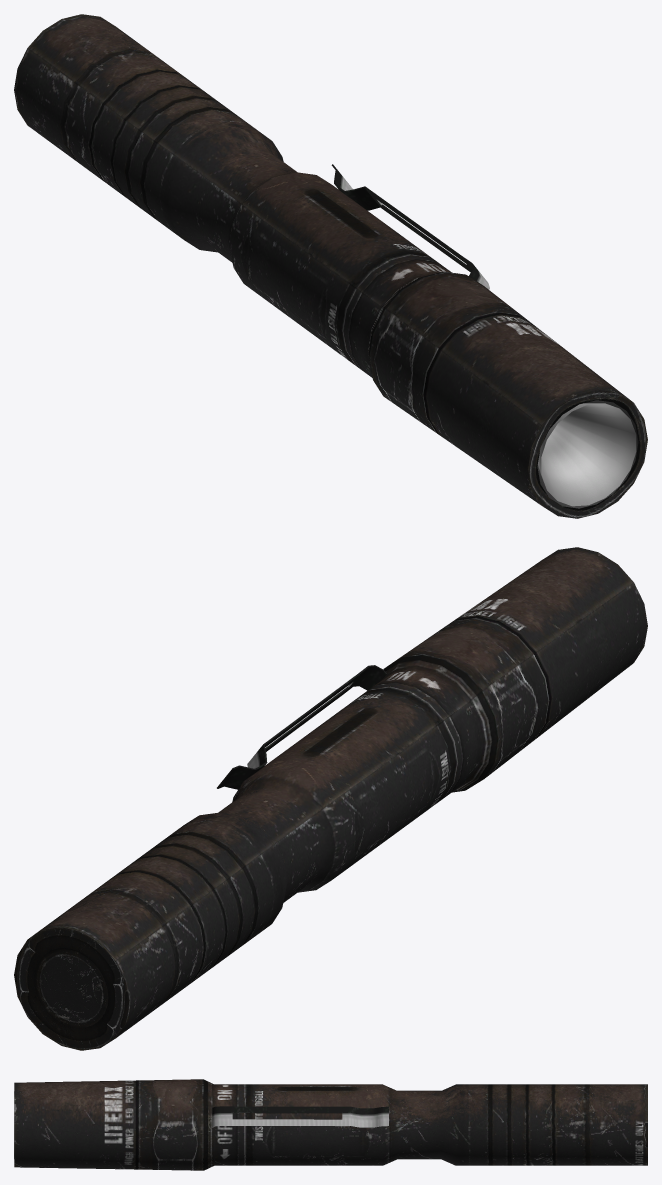
File: flashlight02Prefab.fbx
3 views of the same model, one above another, from view 1: azimuth 30°, elevation 25°; view 2: azimuth 150°, elevation 25°; view 3: azimuth 270°, elevation 25° (orthographic). The views are drawn at different scales.
Parts seen in each view (by area): view 1: flashlight02Prefab, glow; view 2: flashlight02Prefab; view 3: flashlight02Prefab.
Part boxes in pixels (left/top/right/bottom): flashlight02Prefab: left=14, top=14, right=647, bottom=518; glow: left=538, top=403, right=636, bottom=506; flashlight02Prefab: left=14, top=547, right=647, bottom=1050; flashlight02Prefab: left=14, top=1079, right=647, bottom=1170.
Size of the model in its own units: 0.035 by 0.0336 by 0.2359.
